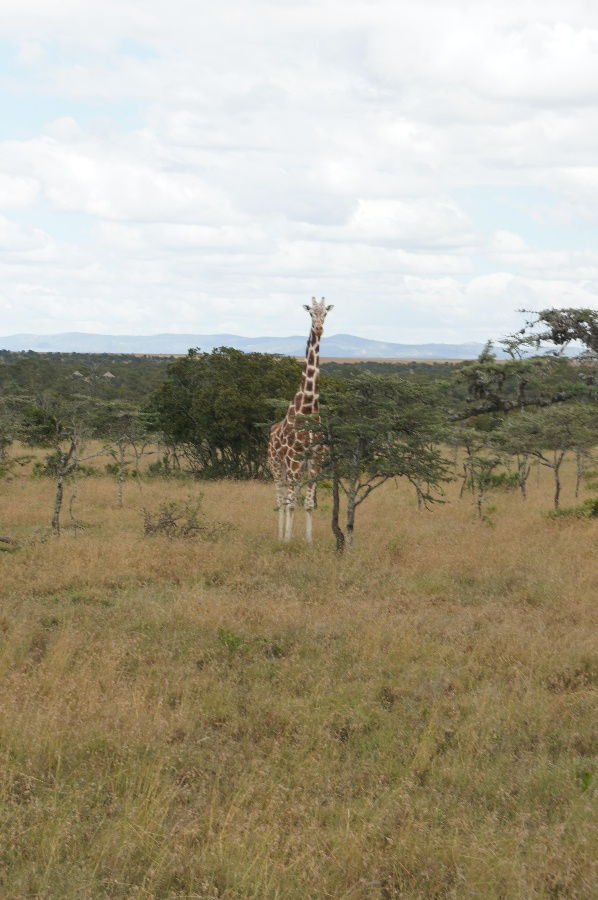giraffe: (256, 287, 348, 554)
